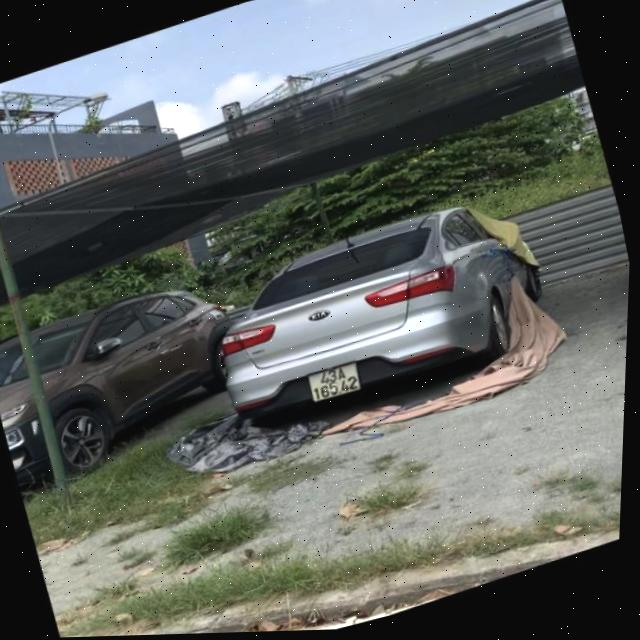car: (193, 182, 575, 462), (0, 266, 267, 491)
plate: (298, 352, 369, 410)
